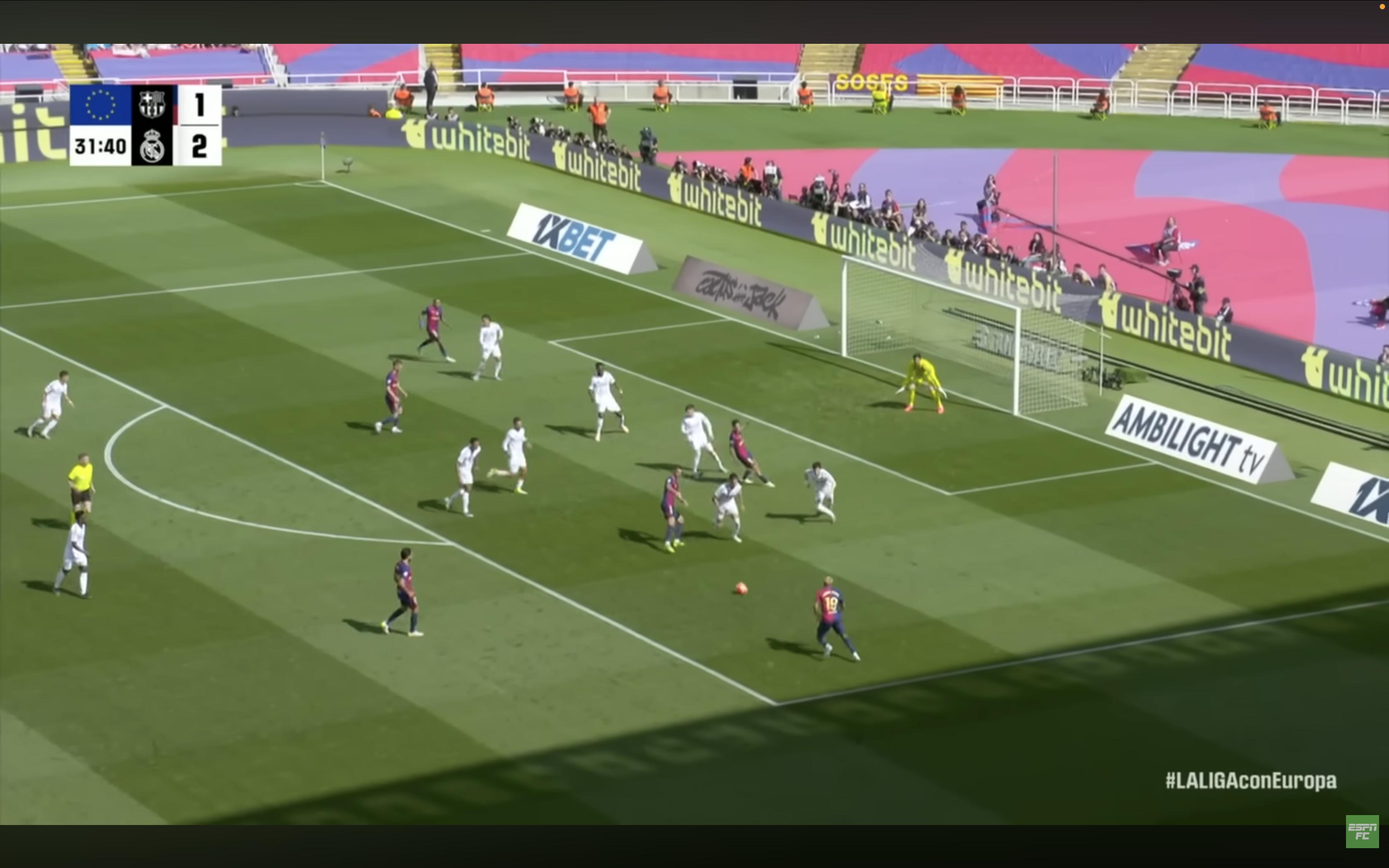ball: (734, 581, 749, 596)
goalkeeper: (897, 354, 944, 413)
player: (814, 577, 860, 661), (381, 547, 422, 637), (681, 405, 728, 478), (27, 371, 74, 439), (53, 512, 89, 599), (588, 363, 628, 441), (488, 417, 528, 494), (729, 420, 774, 487), (443, 438, 481, 517), (374, 360, 407, 434), (417, 299, 454, 363), (661, 467, 687, 553), (472, 315, 504, 381), (711, 474, 742, 542), (805, 462, 836, 522)
referee: (67, 453, 94, 522)
